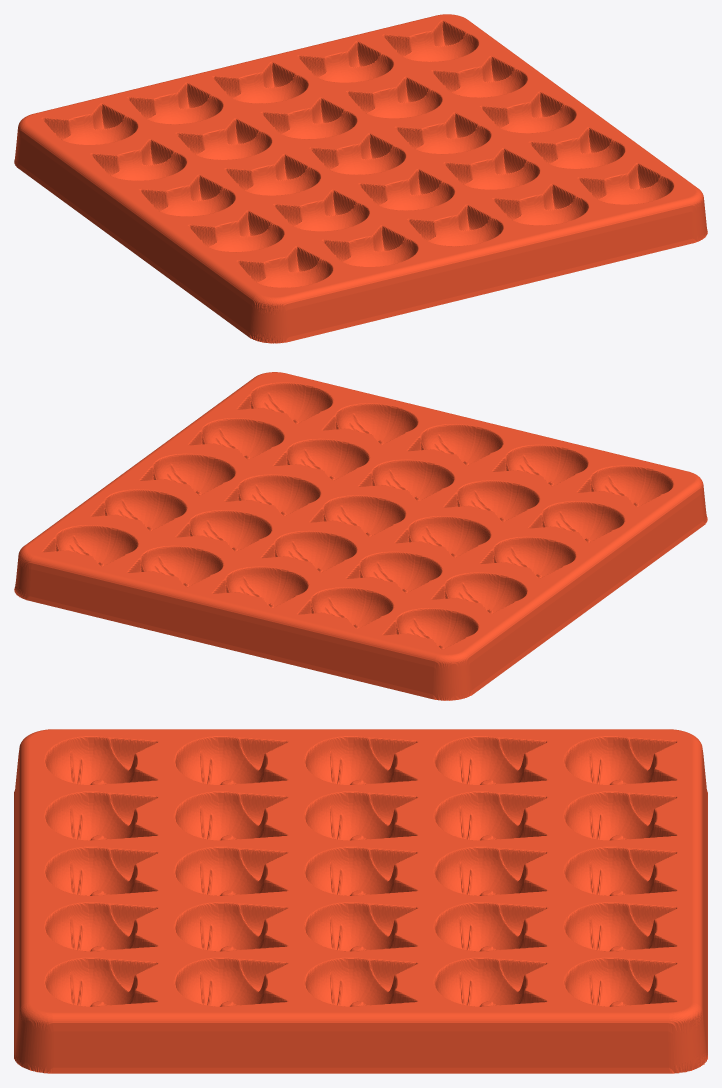
File: mold.glb
3 renders of one model, top to bottom at view 1: azimuth 30°, elevation 25°; view 2: azimuth 150°, elevation 25°; view 3: azimuth 270°, elevation 25°, orthographic. The views are drawn at different scales.
Visible parts, largest first — view 1: geometry_0; view 2: geometry_0; view 3: geometry_0.
Part boxes in pixels (left/top/right/bottom): geometry_0: left=14, top=14, right=707, bottom=343; geometry_0: left=14, top=372, right=707, bottom=700; geometry_0: left=14, top=729, right=707, bottom=1073.
Size of the model in its own units: 0.1584 by 0.0136 by 0.1571.
